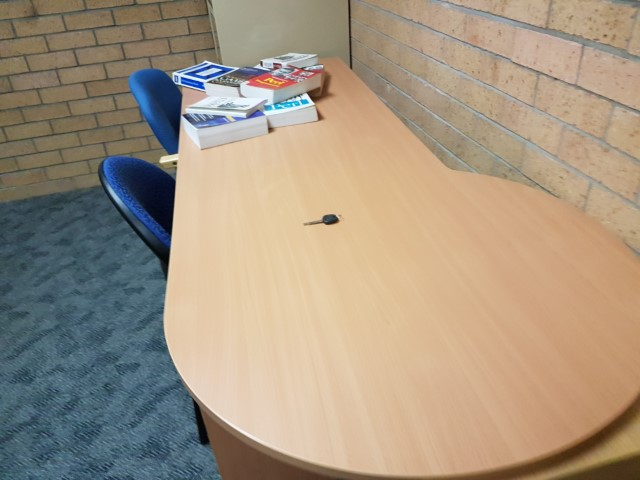key: (304, 214, 340, 225)
